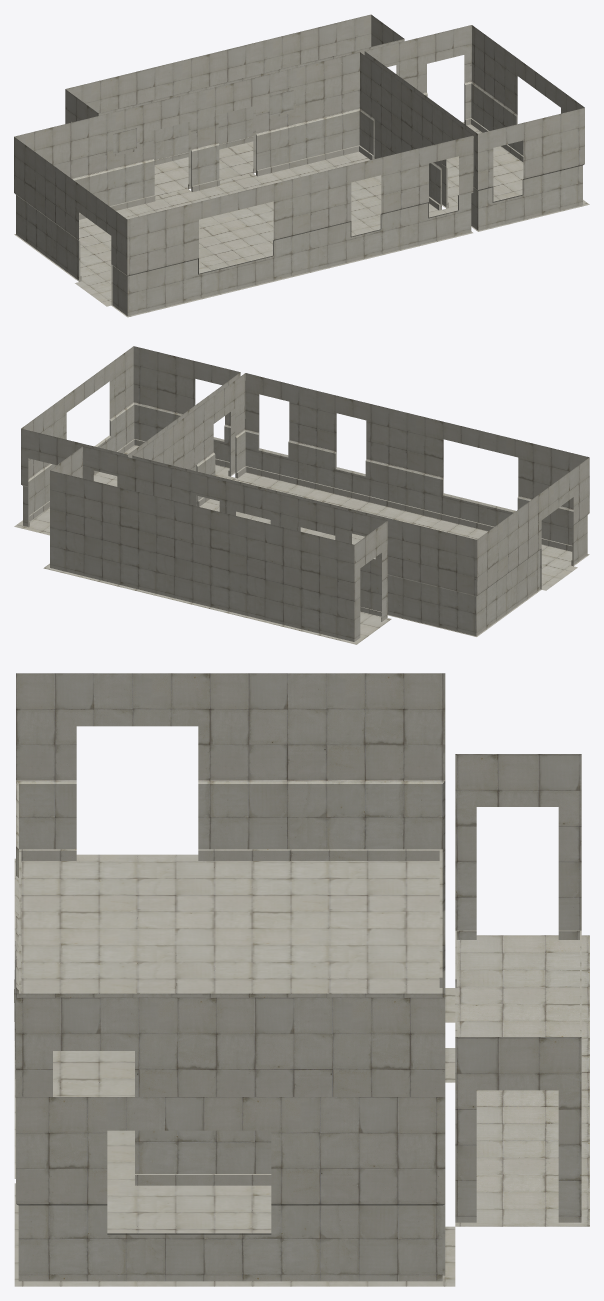
Rendered from TortureRoom_Walls_Floor.FBX.
3 renders of one model, top to bottom at view 1: azimuth 30°, elevation 25°; view 2: azimuth 150°, elevation 25°; view 3: azimuth 270°, elevation 25°, orthographic. The views are drawn at different scales.
Visible parts, largest first — view 1: TortureRoom_Walls_Floor; view 2: TortureRoom_Walls_Floor; view 3: TortureRoom_Walls_Floor.
Boxes of the visible parts, bbox=[...] form: TortureRoom_Walls_Floor: bbox=[14, 14, 589, 317]; TortureRoom_Walls_Floor: bbox=[14, 346, 589, 644]; TortureRoom_Walls_Floor: bbox=[14, 673, 589, 1286].
Bounding box in the file's own units: 1559 × 312 × 878.
Materials: 1 (1 with a texture image).
